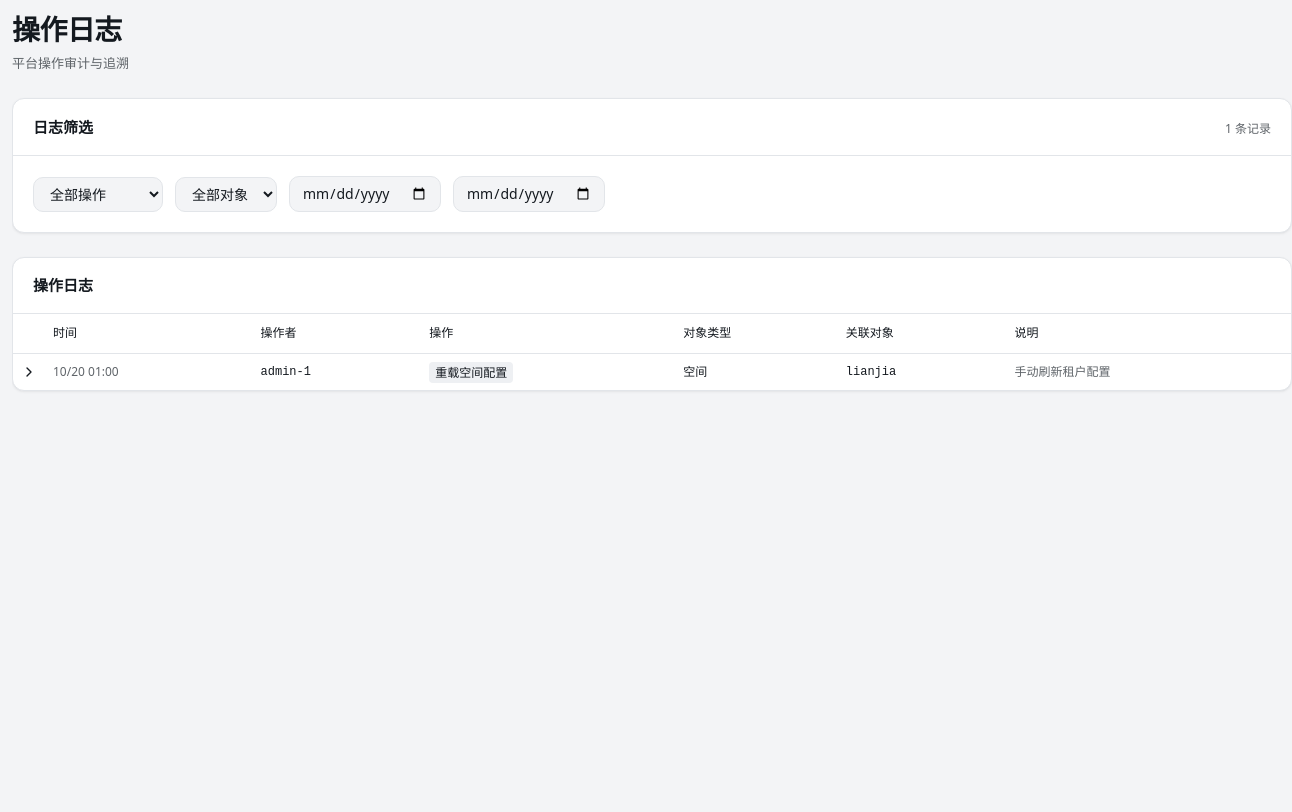
Test: 操作日志折叠行键盘可达 › 展开后「查看详情」按钮可切换原始 JSON（aria-expanded）
Press Enter in the row "10/20 01:00 admin-1 重载空间配置 空间 lianjia 手动刷新租户配置", box [13,354,1291,390]
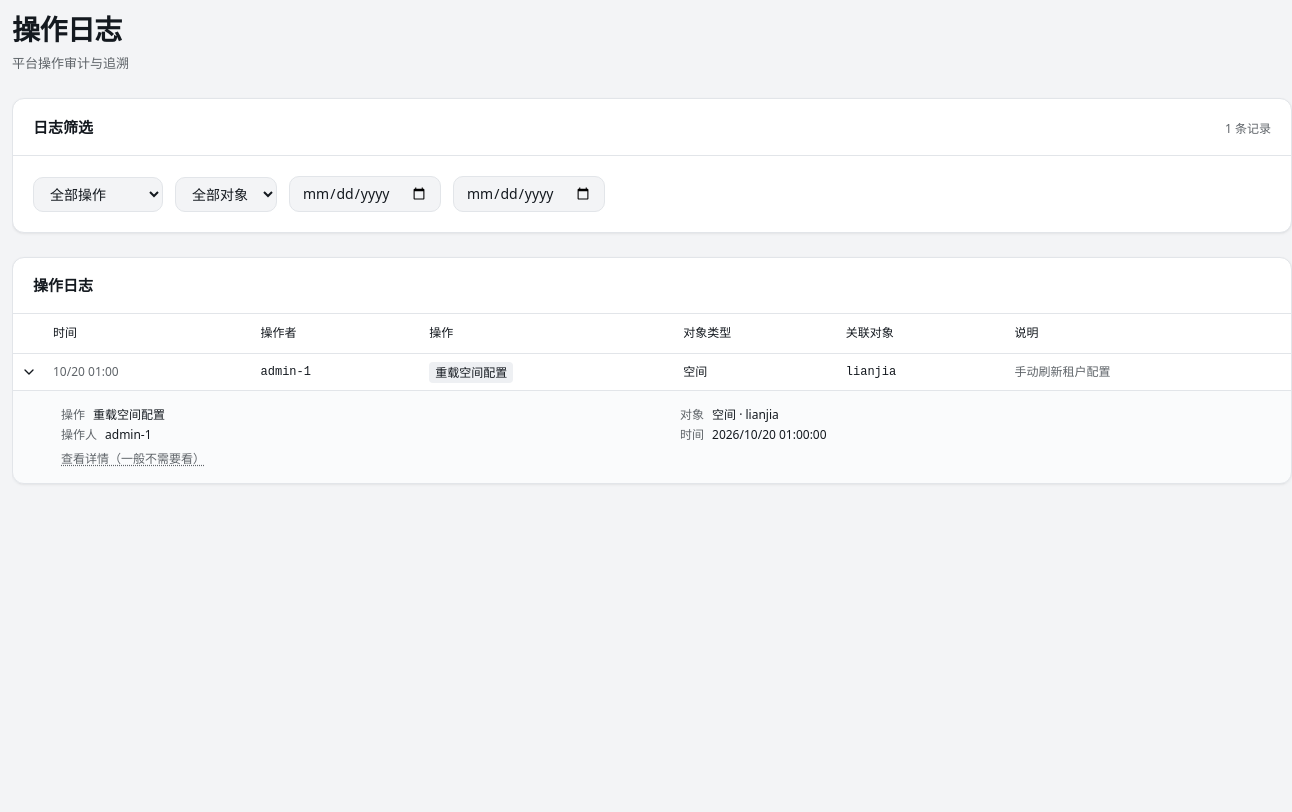
Expected: the button "查看详情（一般不需要看）" is shown
Click the button "查看详情（一般不需要看）" at (133, 459), box [61,451,205,467]
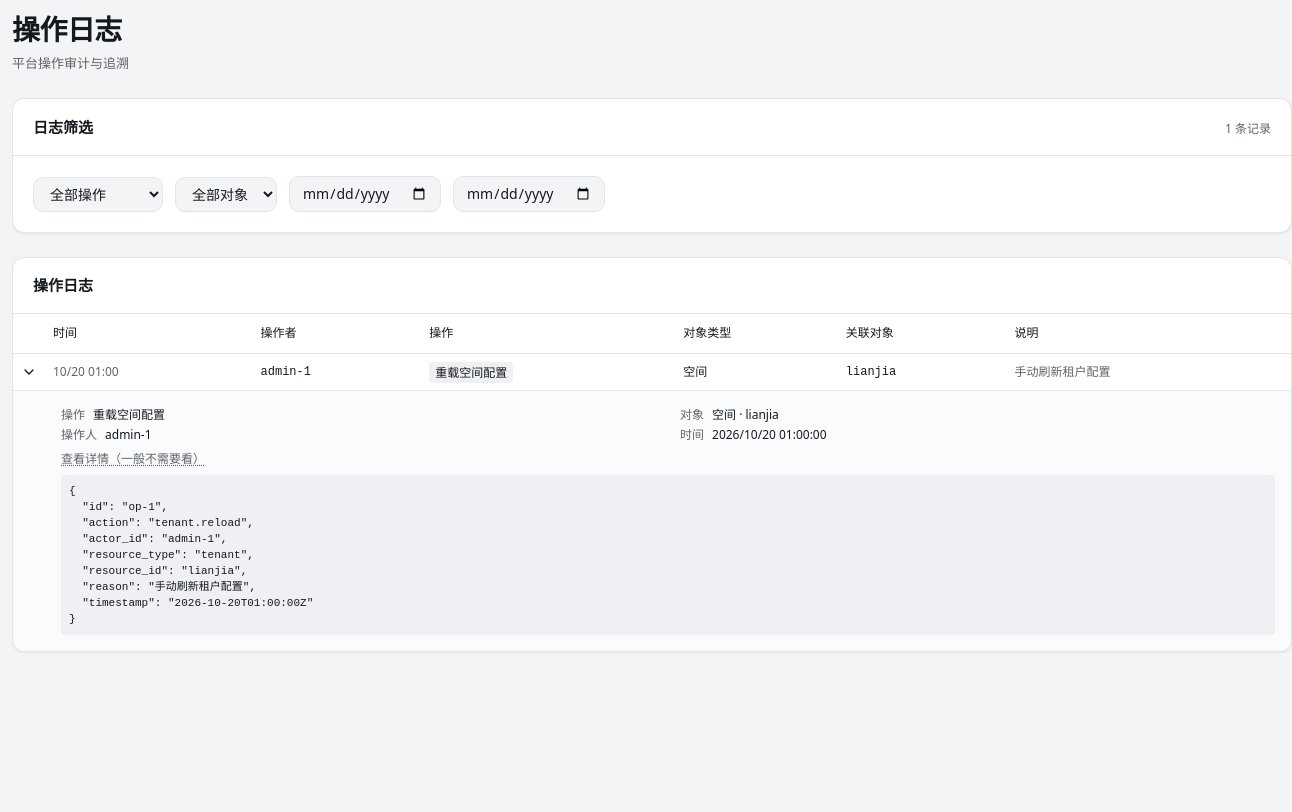
Expected: the text "\"action\": \"tenant.reload\"" is shown, [69,485,313,625]
